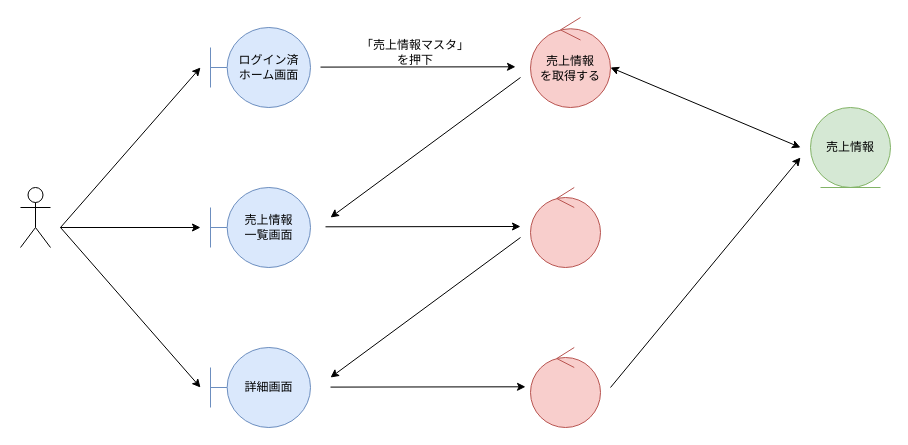
The diagram is 908 pixels wide and 445 high, and some of its shapes have lost their labels. The box of each missing label's shape, as (x1, y1, x2, y2) in pixels:
削除する: (530, 346, 600, 428)
管理者: (20, 186, 50, 248)
表示する: (530, 186, 600, 268)
